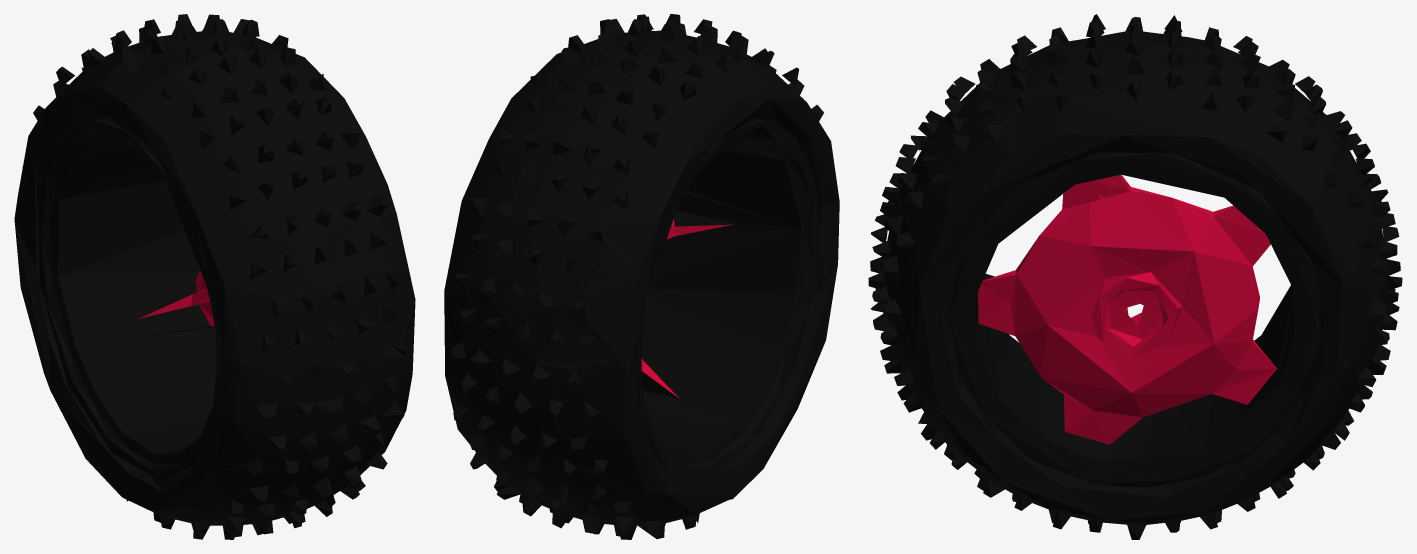
The model's file is wheel.fbx.
3 renders of one model, left to right at view 1: azimuth 30°, elevation 25°; view 2: azimuth 150°, elevation 25°; view 3: azimuth 270°, elevation 25°, orthographic.
Visible parts, largest first — view 1: Wheel_V2; view 2: Wheel_V2; view 3: Wheel_V2.
Boxes of the visible parts, <box> form: Wheel_V2: <box>14,14,415,539</box>; Wheel_V2: <box>444,14,839,539</box>; Wheel_V2: <box>868,14,1402,539</box>.
Size of the model in its own units: 3626 by 8720 by 8694.
